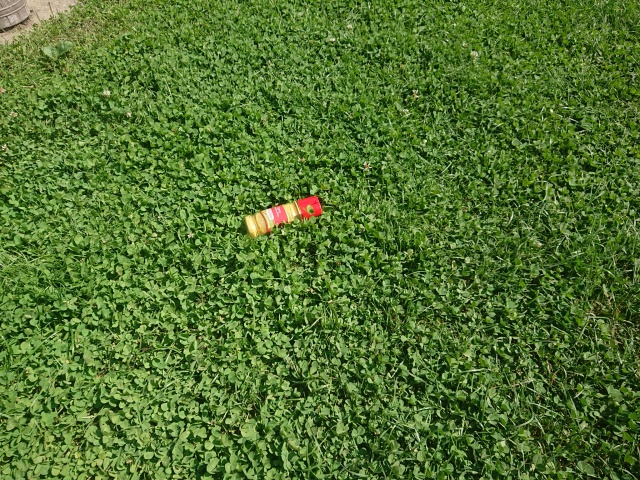Kotanyi Curry Spices Mix 70g: (241, 193, 324, 240)
